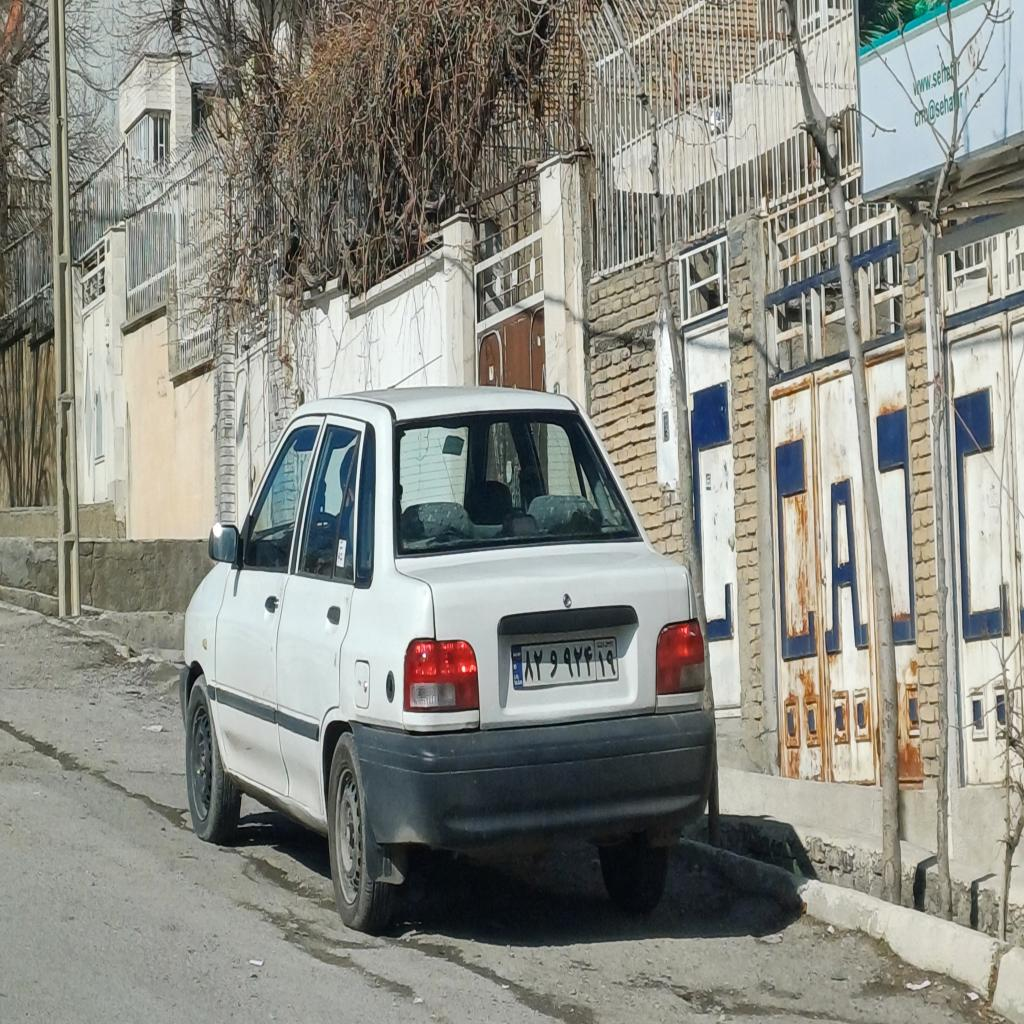Plates: (512, 636, 620, 690)
